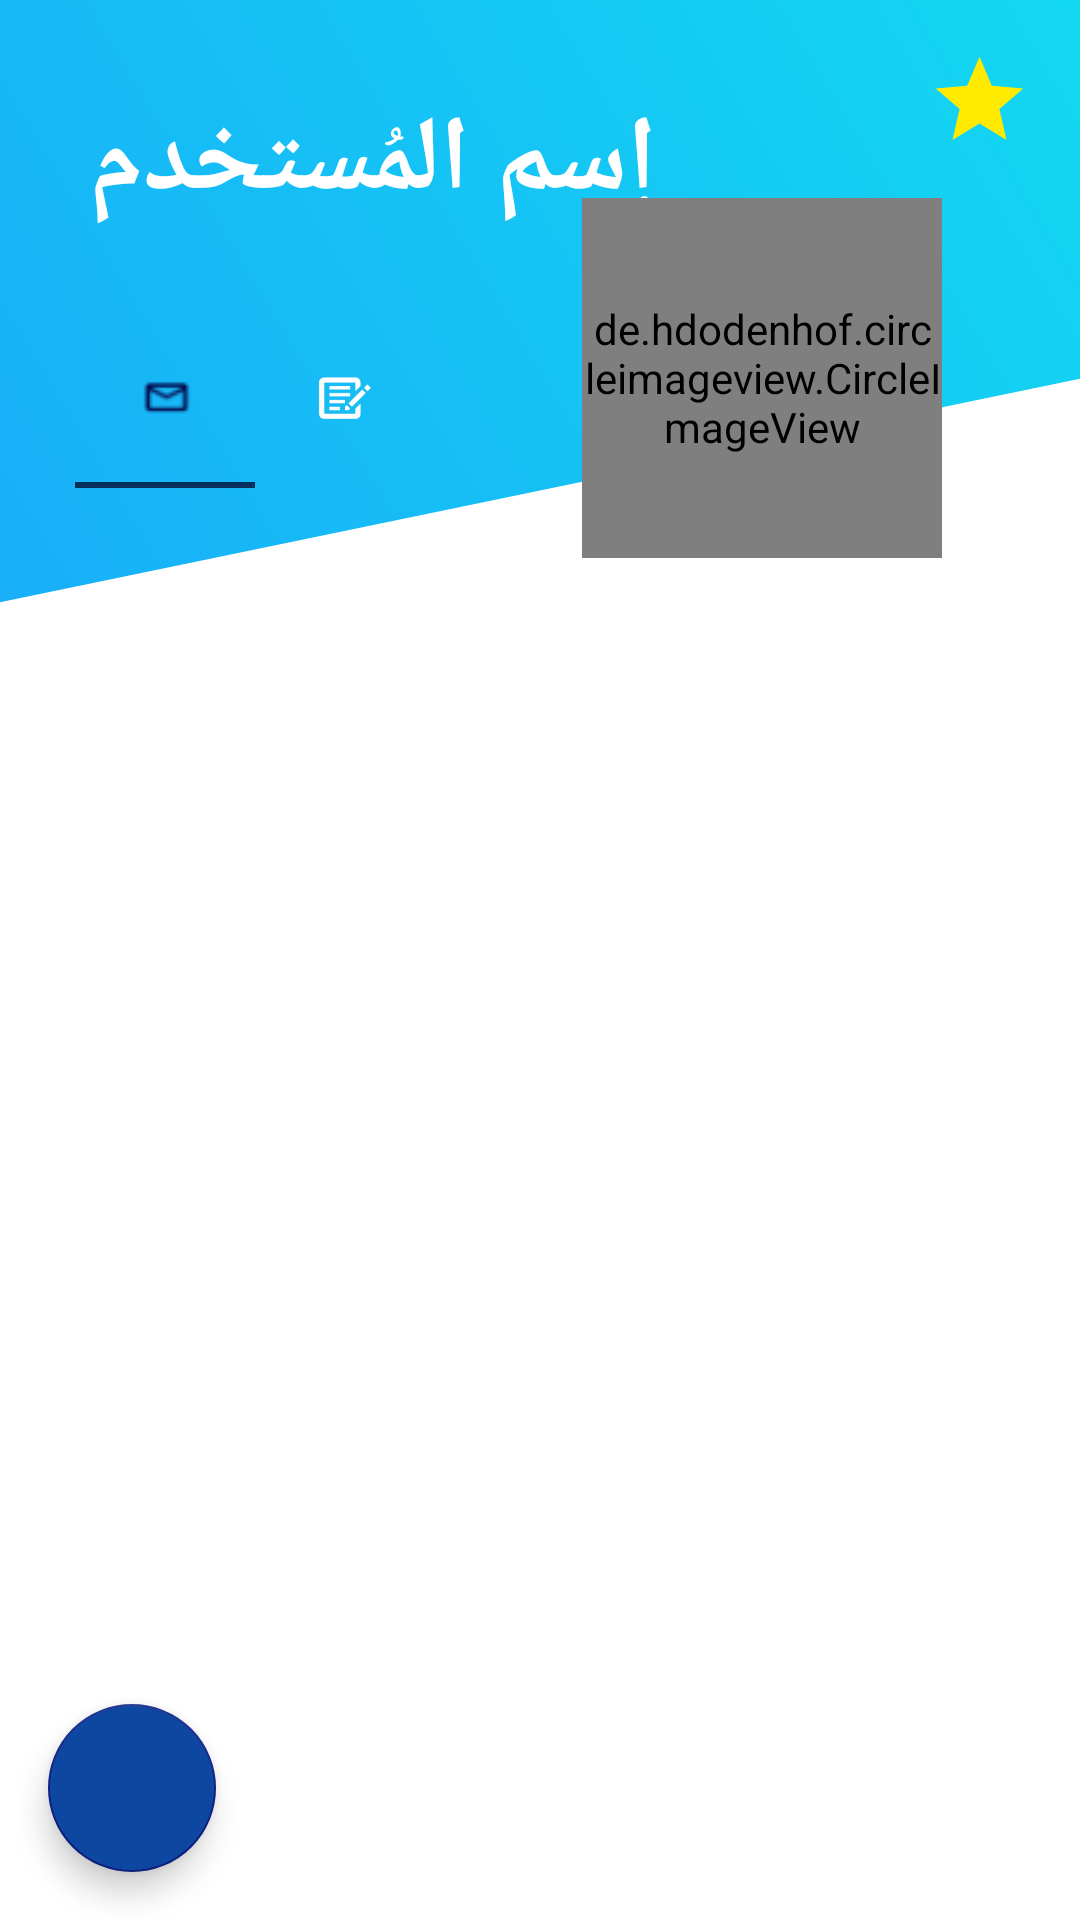

Icons on this 1080x1920 Android screen, each with the point to tap as [x,y]:
golden star: [979,98]
